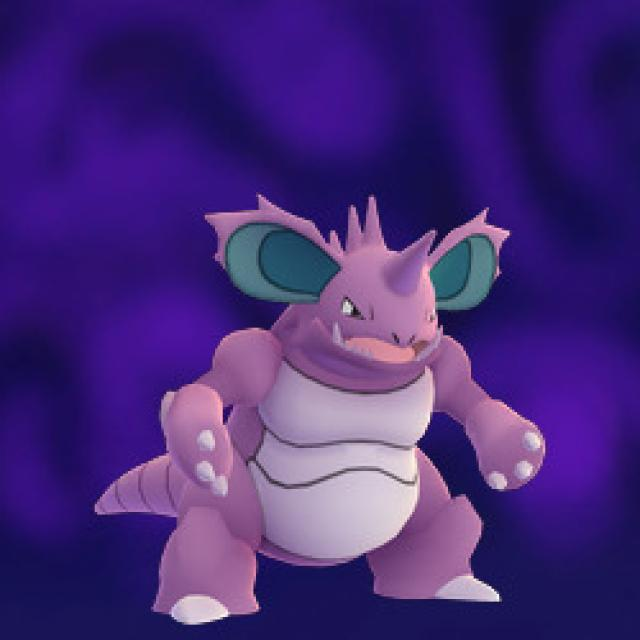Nidoking: (156, 196, 540, 614)
